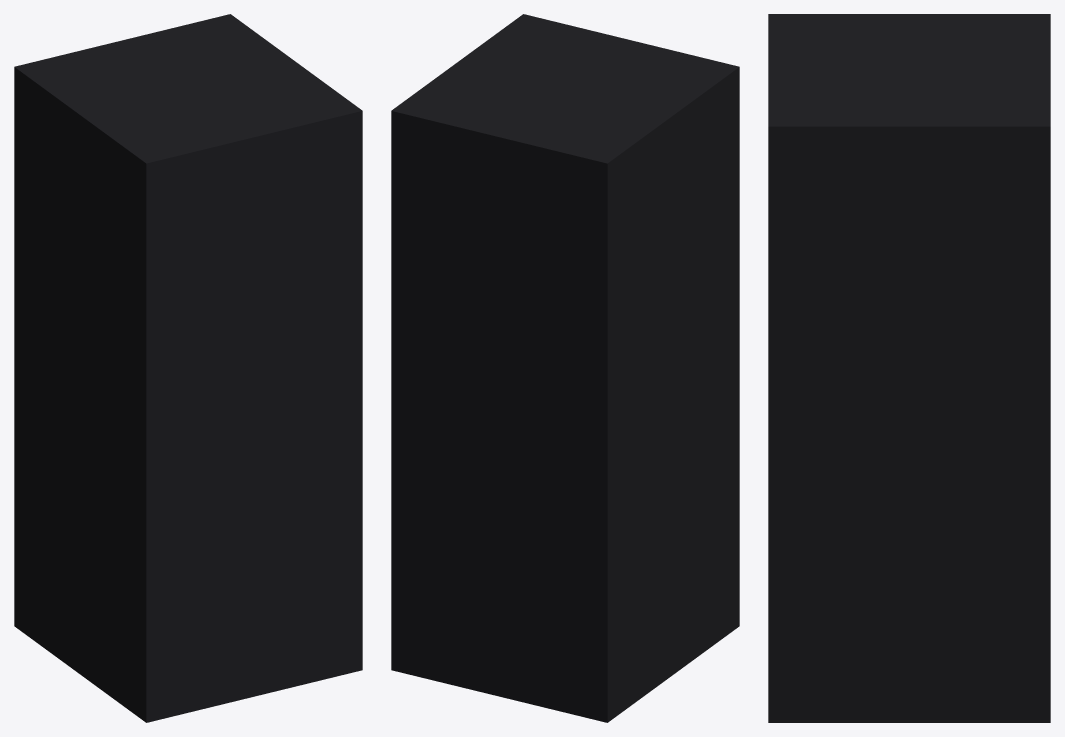
File: j2_muslo.obj
The picture shows the model from 3 angles, left to right: view 1: azimuth 30°, elevation 25°; view 2: azimuth 150°, elevation 25°; view 3: azimuth 270°, elevation 25°; orthographic projection. The views are drawn at different scales.
Size of the model in its own units: 0.17 by 0.42 by 0.18.
Materials: 1 (1 with a texture image).
